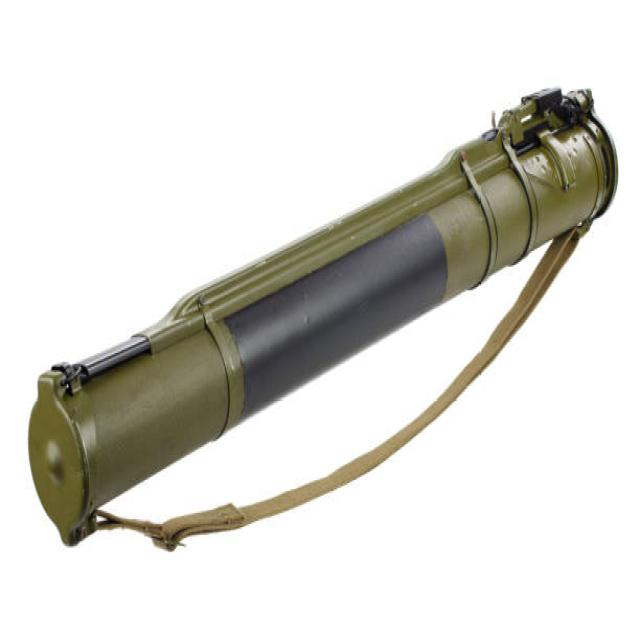bazooka: (28, 76, 623, 561)
